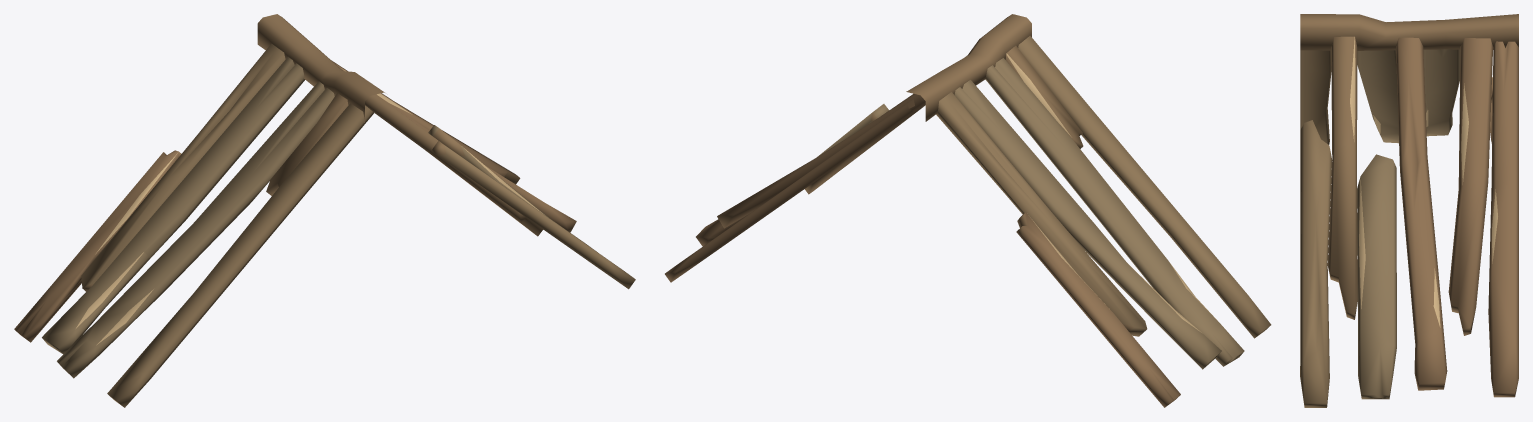
File: rpgpp_av_roof_02_6x3x3_b.gltf
3 views of the same model, side by side, from view 1: azimuth 30°, elevation 25°; view 2: azimuth 150°, elevation 25°; view 3: azimuth 270°, elevation 25° (orthographic). The views are drawn at different scales.
Visible parts, largest first — view 1: rpgpp_av_roof_02_6x3x3_b; view 2: rpgpp_av_roof_02_6x3x3_b; view 3: rpgpp_av_roof_02_6x3x3_b.
Part boxes in pixels (x1,y1,x2,y2): rpgpp_av_roof_02_6x3x3_b: (14,14,635,407); rpgpp_av_roof_02_6x3x3_b: (665,14,1271,407); rpgpp_av_roof_02_6x3x3_b: (1300,14,1518,407).
Size of the model in its own units: 0.0855 by 0.04 by 0.03.
1 material, 1 textured.
